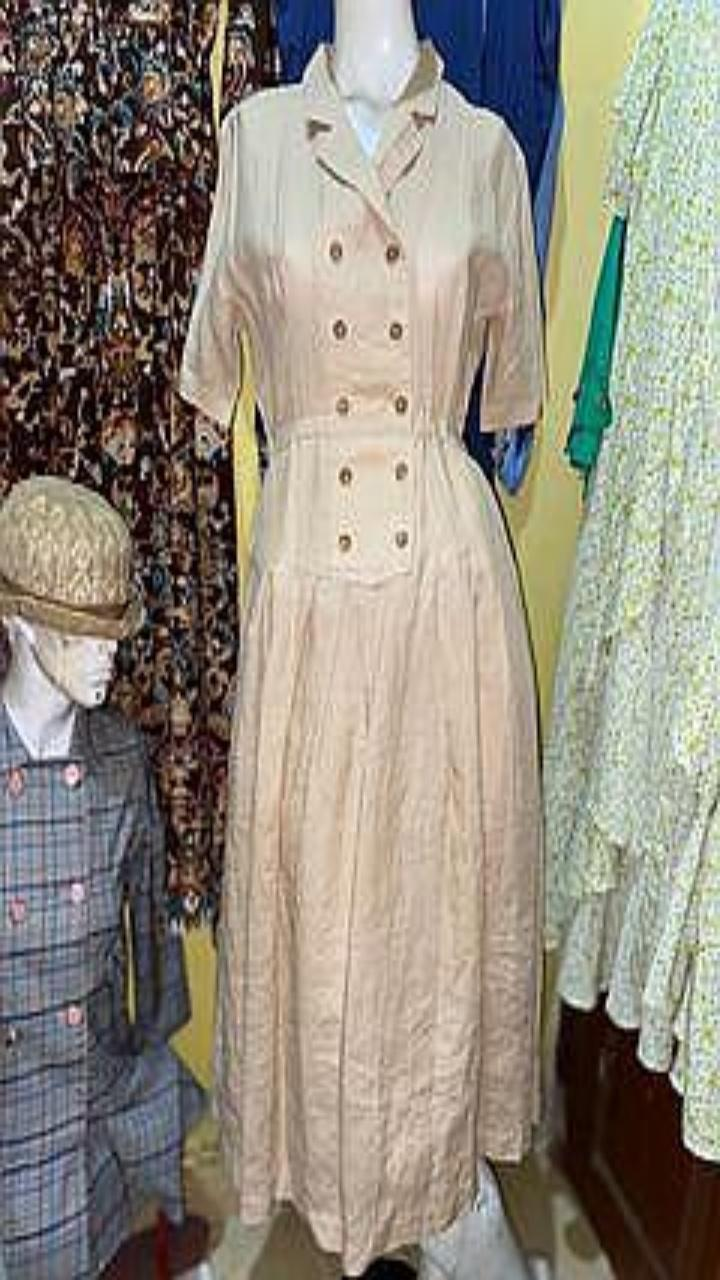Dresses: (182, 45, 540, 1272), (0, 701, 201, 1279)
